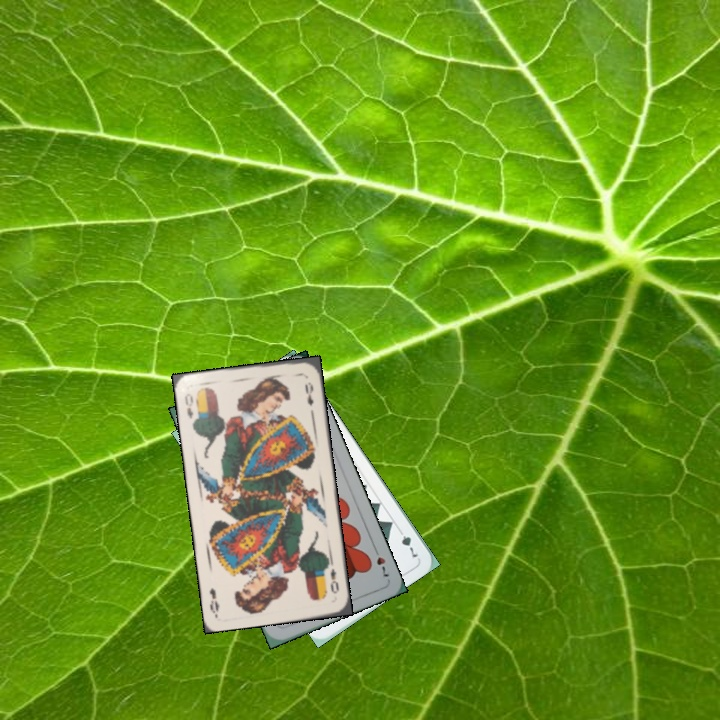EO: (326, 564, 341, 596), (181, 389, 196, 421)
G7: (394, 524, 421, 560)
H7: (370, 543, 392, 579)
